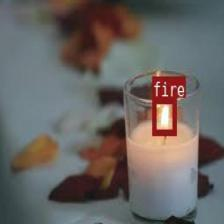fire: (152, 96, 176, 135)
